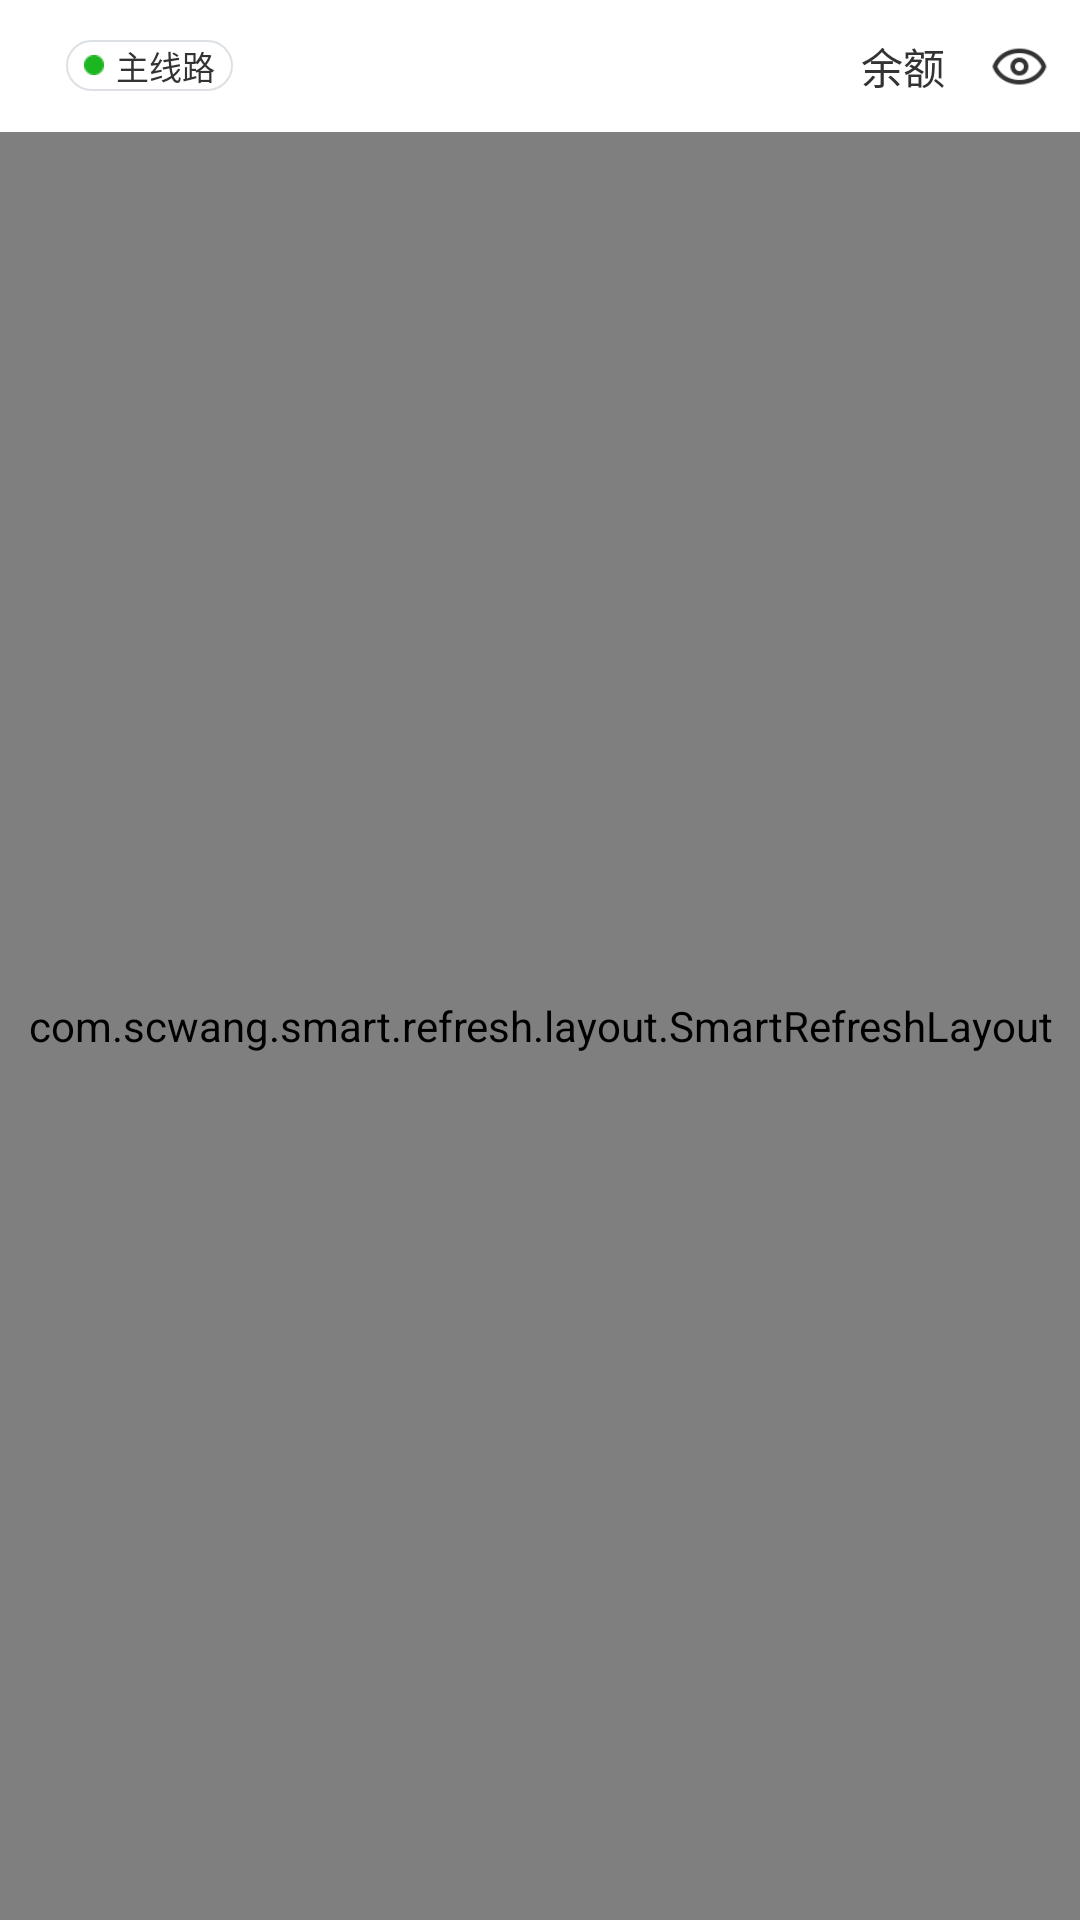

Icons on this 1080px x 1920px Android screen, each with the point to tap as (x=x, y=y):
home money show: (x=1019, y=66)
